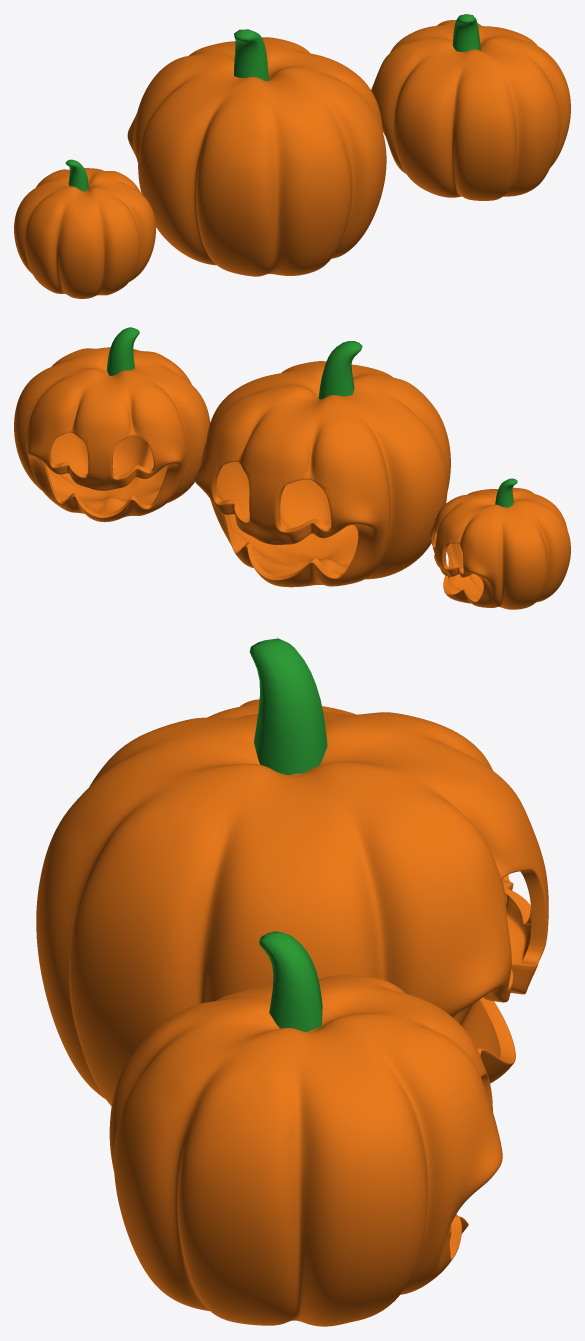
The model's file is тыквы.fbx.
3 renders of one model, top to bottom at view 1: azimuth 30°, elevation 25°; view 2: azimuth 150°, elevation 25°; view 3: azimuth 270°, elevation 25°, orthographic. The views are drawn at different scales.
Parts seen in each view (by area): view 1: Cube, Cube.001, Cube.002; view 2: Cube, Cube.001, Cube.002; view 3: Cube, Cube.001.
Part boxes in pixels (x1,y1,x2,y2): Cube: (127, 29, 386, 276); Cube.001: (371, 14, 570, 200); Cube.002: (14, 159, 155, 298); Cube: (195, 341, 450, 587); Cube.001: (14, 327, 210, 522); Cube.002: (429, 478, 570, 609); Cube: (36, 638, 548, 1105); Cube.001: (109, 931, 502, 1326).
Size of the model in its own units: 714 by 294 by 301.
